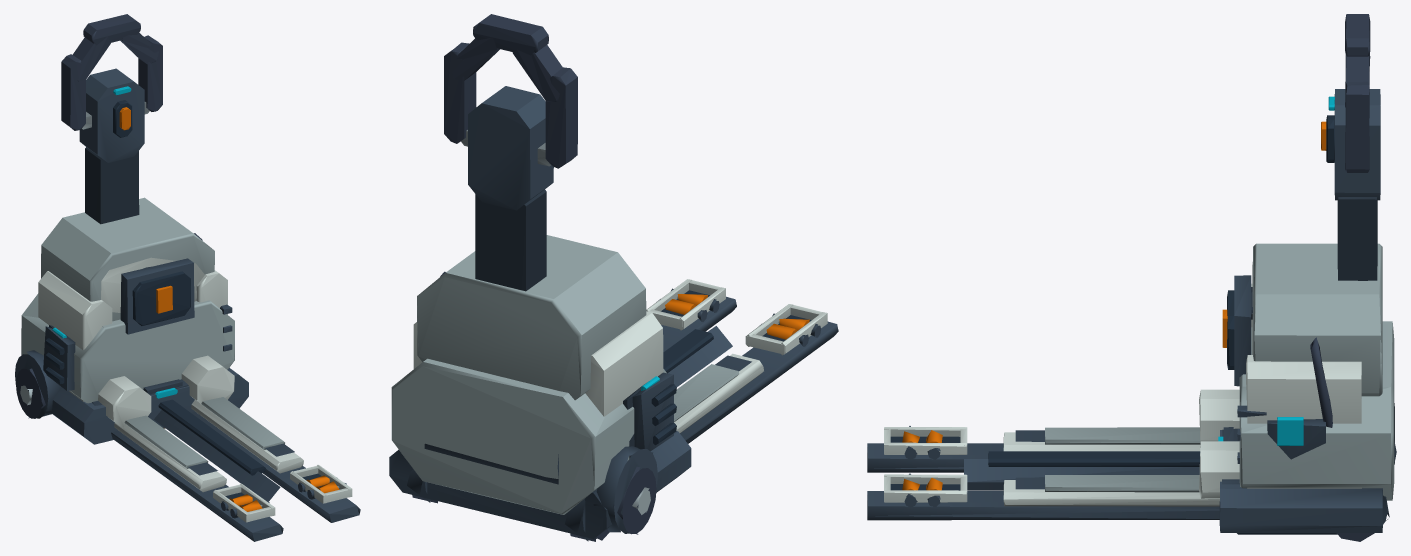
File: transpalette.glb
The picture shows the model from 3 angles, left to right: view 1: azimuth 30°, elevation 25°; view 2: azimuth 150°, elevation 25°; view 3: azimuth 270°, elevation 25°; orthographic projection. The views are drawn at different scales.
Parts seen in each view (by area): view 1: corps__gris_clair2, corps__bleu_nuit, corps__gris_clair, articulated_control_handle__bleu_nuit, articulated_control_handle__bleu_nuit3, corps__bleu_nuit2, corps__lum_orange, corps__bleu_nuit3, articulated_control_handle__bleu_nuit2; view 2: corps__gris_clair2, corps__bleu_nuit, articulated_control_handle__bleu_nuit, corps__gris_clair, articulated_control_handle__bleu_nuit3, corps__bleu_nuit2, corps__bleu_nuit3, corps__lum_orange; view 3: corps__gris_clair2, corps__bleu_nuit, corps__gris_clair, articulated_control_handle__bleu_nuit, corps__bleu_nuit2, articulated_control_handle__bleu_nuit3, corps__bleu_nuit3, corps__lum_orange, corps__lum_cyan.
Boxes of the visible parts, x1,y1,x2,y2 form: corps__gris_clair2: [21, 197, 284, 468]; corps__bleu_nuit: [15, 258, 360, 541]; corps__gris_clair: [38, 257, 352, 522]; articulated_control_handle__bleu_nuit: [79, 68, 144, 224]; articulated_control_handle__bleu_nuit3: [61, 14, 162, 130]; corps__bleu_nuit2: [45, 271, 339, 508]; corps__lum_orange: [156, 285, 339, 511]; corps__bleu_nuit3: [16, 233, 202, 418]; articulated_control_handle__bleu_nuit2: [113, 100, 132, 137]; corps__gris_clair2: [391, 235, 739, 514]; corps__bleu_nuit: [389, 288, 838, 541]; articulated_control_handle__bleu_nuit: [468, 86, 553, 291]; corps__gris_clair: [413, 279, 827, 433]; articulated_control_handle__bleu_nuit3: [444, 14, 577, 168]; corps__bleu_nuit2: [651, 290, 811, 445]; corps__bleu_nuit3: [412, 271, 656, 541]; corps__lum_orange: [665, 294, 809, 339]; corps__gris_clair2: [1045, 243, 1394, 500]; corps__bleu_nuit: [867, 275, 1396, 533]; corps__gris_clair: [884, 262, 1361, 506]; articulated_control_handle__bleu_nuit: [1334, 89, 1380, 280]; corps__bleu_nuit2: [890, 290, 1337, 534]; articulated_control_handle__bleu_nuit3: [1345, 14, 1370, 172]; corps__bleu_nuit3: [1310, 337, 1374, 541]; corps__lum_orange: [902, 309, 1227, 490]; corps__lum_cyan: [1218, 417, 1303, 445].
Bounding box in the file's own units: 0.5931 × 1.2 × 1.22.
